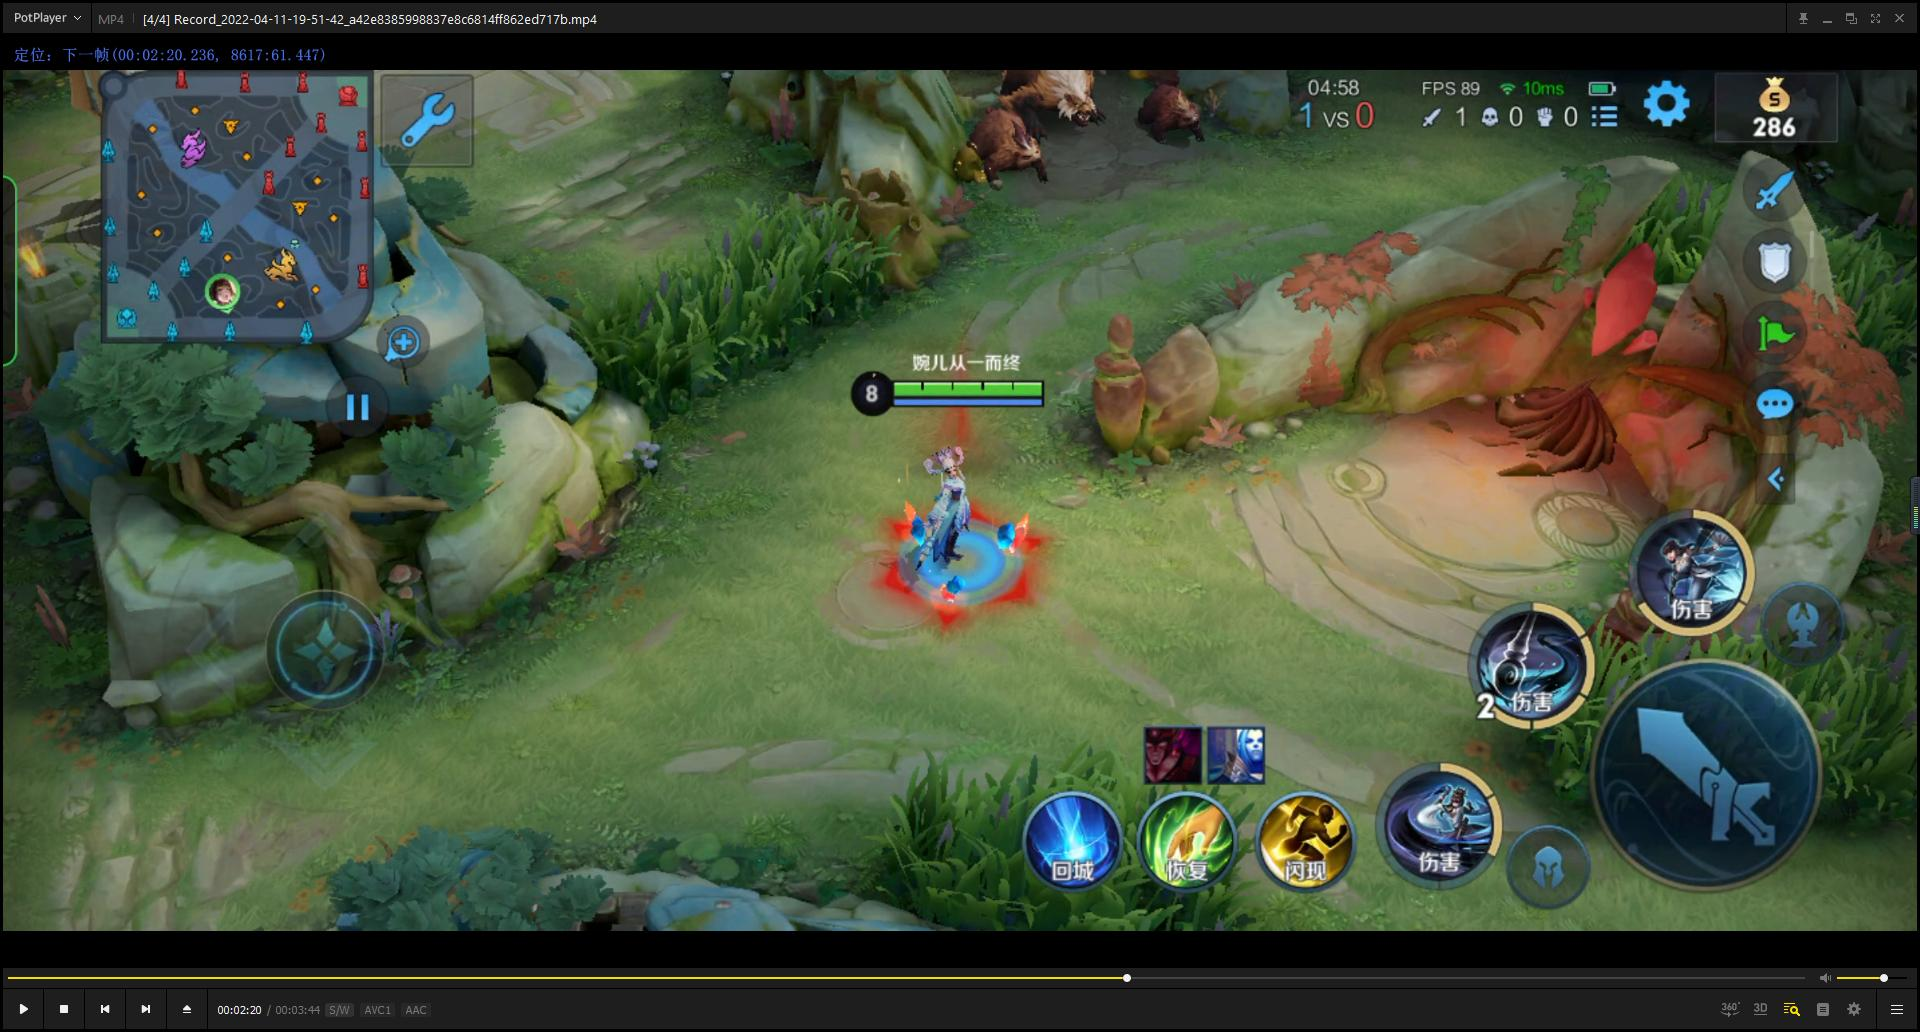Hero: (845, 421, 1083, 684)
Pig: (956, 107, 1070, 214), (1119, 78, 1240, 172), (986, 67, 1114, 133)
